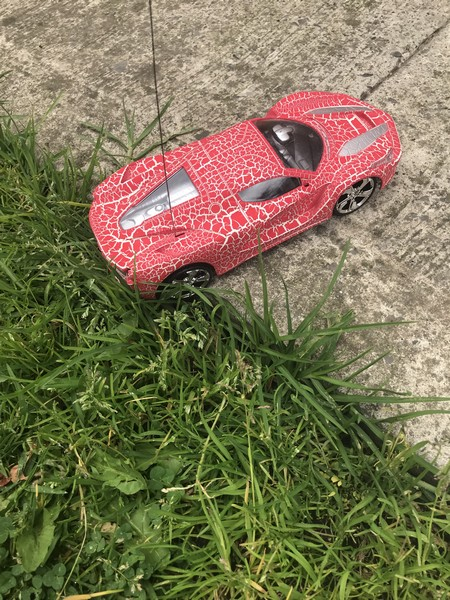RC: (85, 90, 404, 299)
